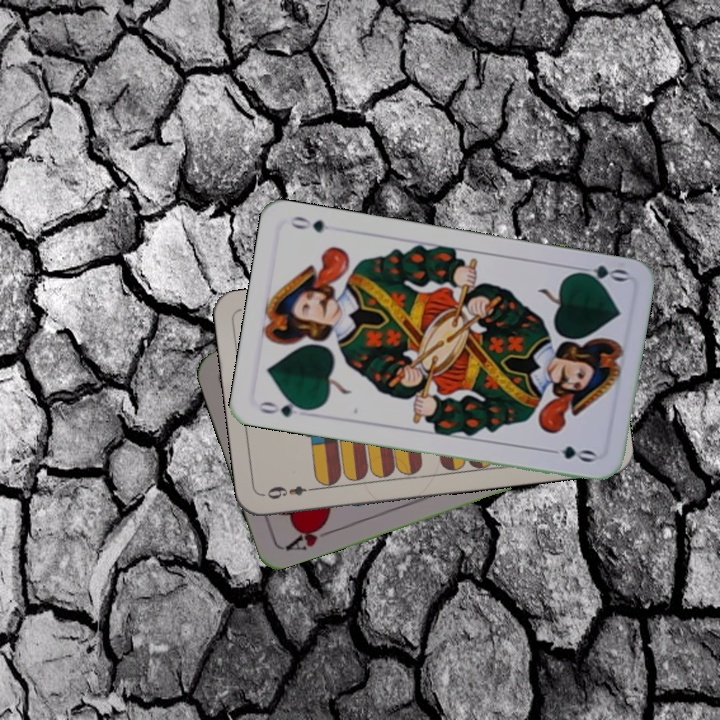E9: (263, 482, 319, 502)
GO: (570, 261, 630, 287), (255, 395, 314, 420)
HA: (281, 517, 336, 554)
